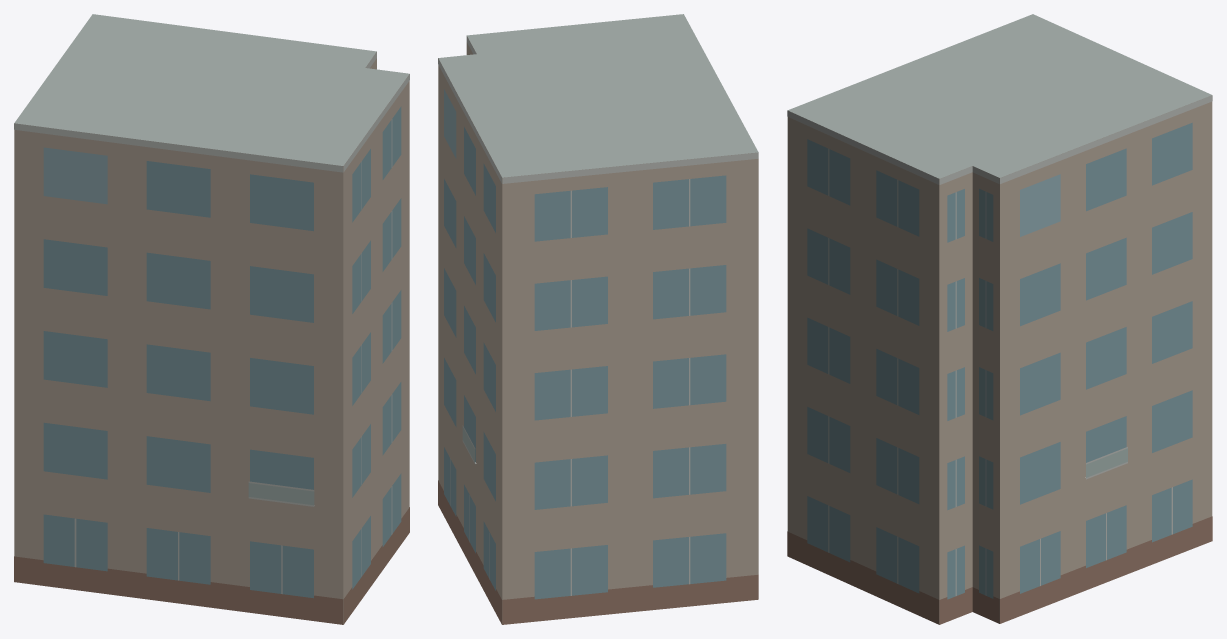
Rendered from survey-upis-32578253.glb.
3 views of the same model, side by side, from view 1: azimuth 30°, elevation 25°; view 2: azimuth 150°, elevation 25°; view 3: azimuth 270°, elevation 25° (orthographic). The views are drawn at different scales.
Visible parts, largest first — view 1: survey-upis-32578253.tmp; view 2: survey-upis-32578253.tmp; view 3: survey-upis-32578253.tmp.
Part boxes in pixels (x1=…): survey-upis-32578253.tmp: x1=14, y1=14, x2=409, y2=624; survey-upis-32578253.tmp: x1=438, y1=14, x2=758, y2=624; survey-upis-32578253.tmp: x1=787, y1=14, x2=1212, y2=624.
Size of the model in its own units: 13.65 by 17.2 by 14.86.
